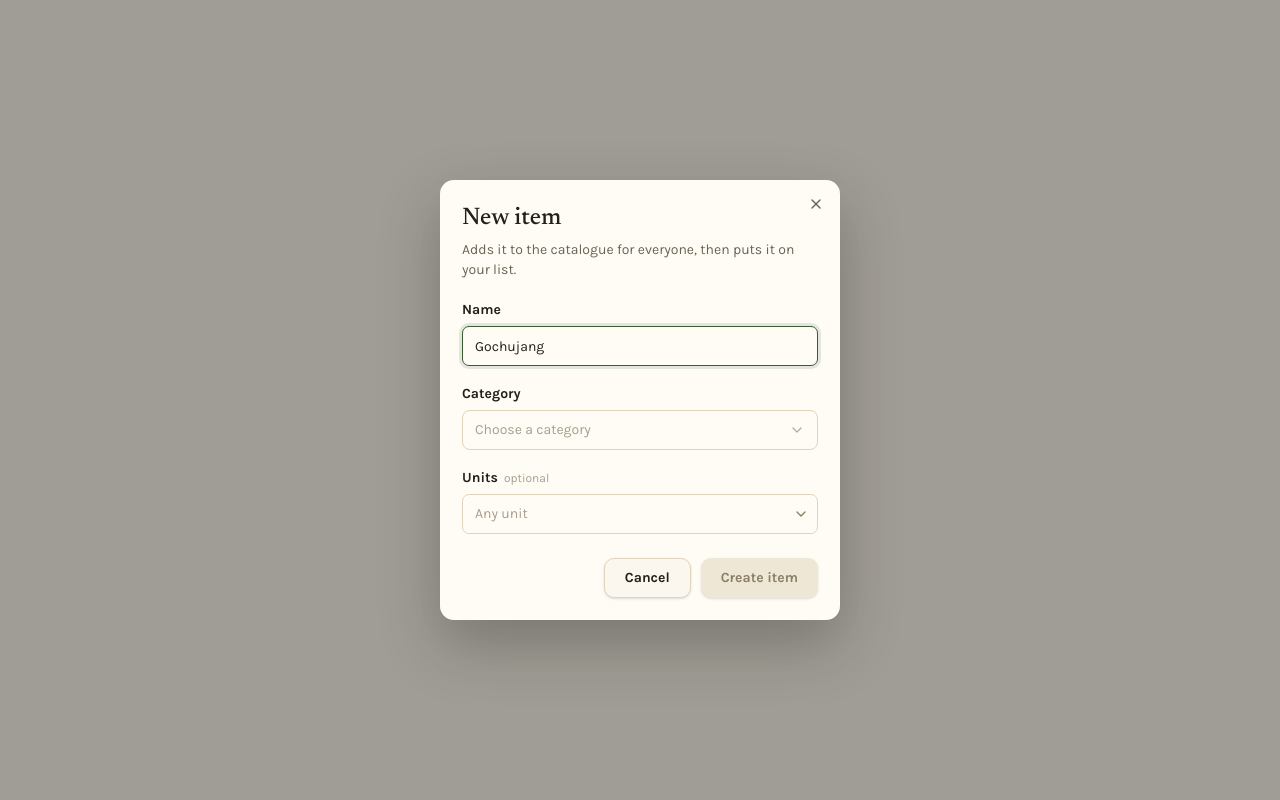
Test: CreateItemDialog › offers every category by default
Click the dropdown labelled "category".
click(533, 430)  # box [462,410,818,450]
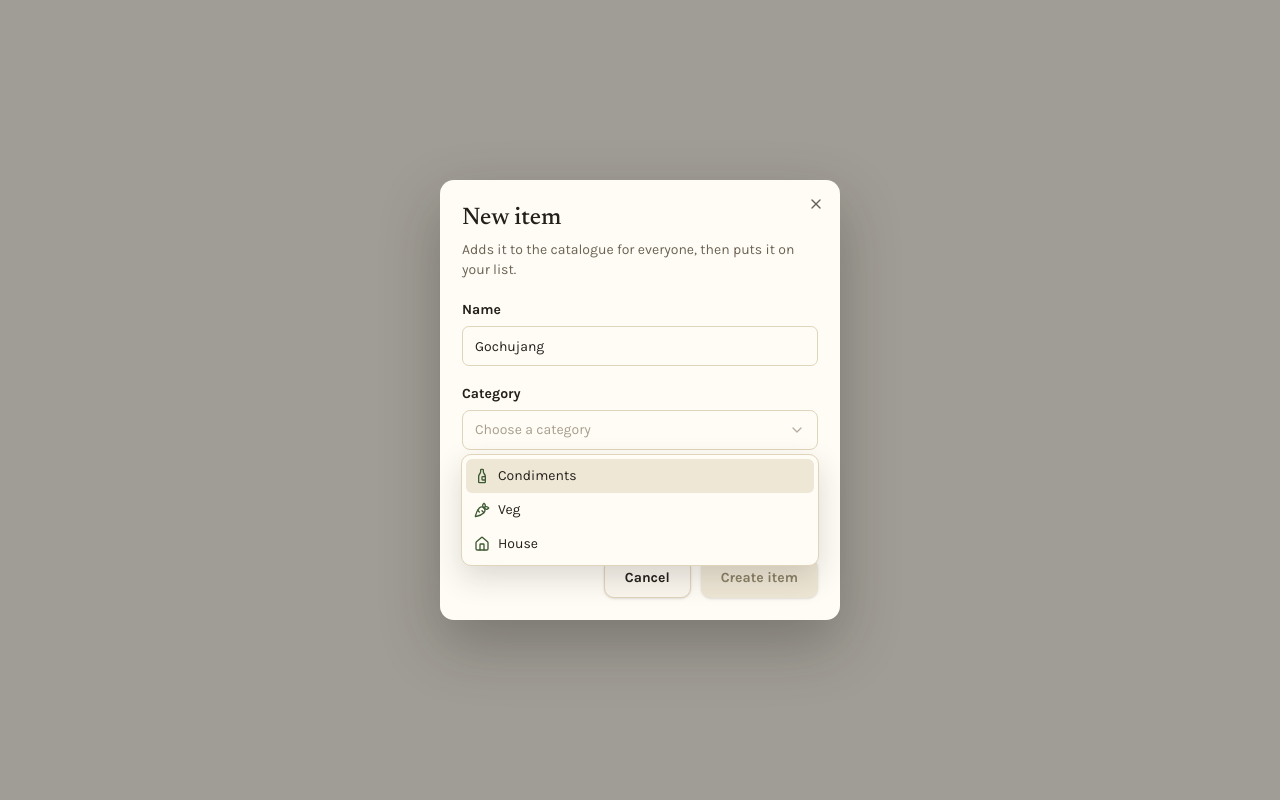
Now the options read "Condiments", "Veg", "House", in this order, box [466,459,814,493]; [474,501,520,518]; [474,535,538,552]
